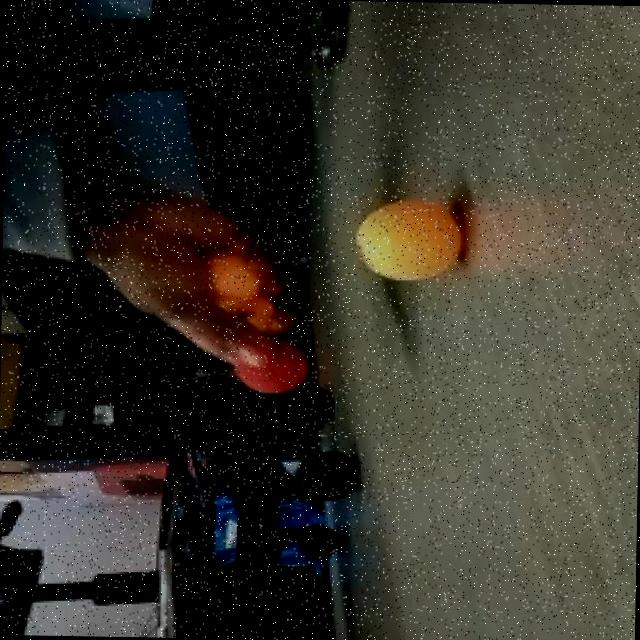ping-pong-ball: (345, 193, 472, 285), (226, 336, 314, 396), (194, 250, 265, 311)
